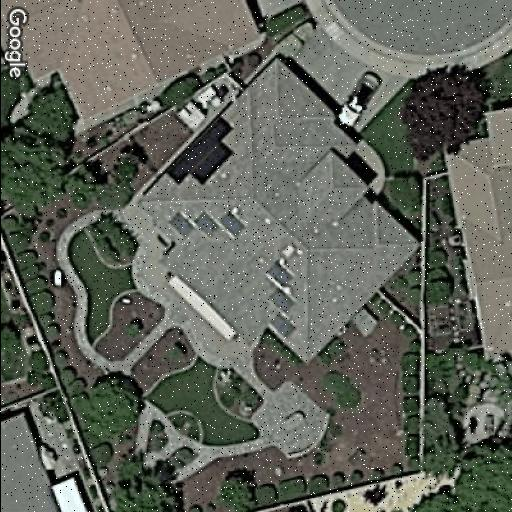solar-panel: (166, 116, 236, 188), (266, 256, 300, 340), (164, 208, 250, 240)
